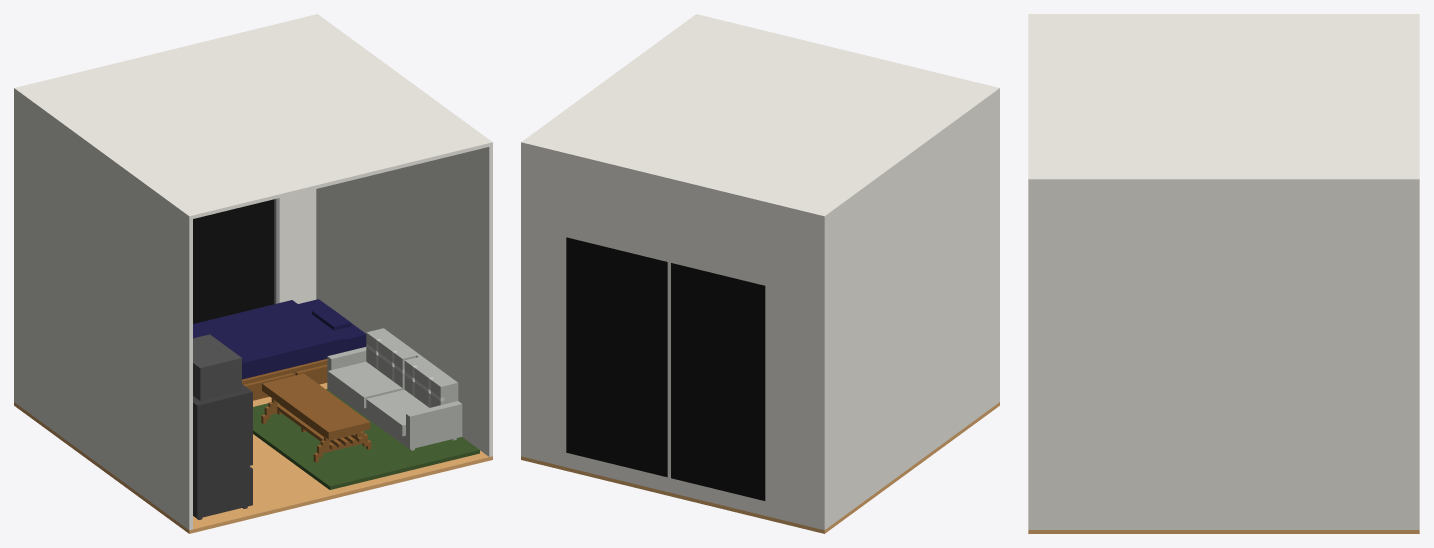
File: myroom.obj
3 views of the same model, side by side, from view 1: azimuth 30°, elevation 25°; view 2: azimuth 150°, elevation 25°; view 3: azimuth 270°, elevation 25° (orthographic). The views are drawn at different scales.
Visible parts, largest first — view 1: myroom; view 2: myroom; view 3: myroom.
Part boxes in pixels (x1,y1,x2,y2): myroom: (14, 14, 492, 533); myroom: (521, 14, 999, 533); myroom: (1028, 14, 1419, 533).
Size of the model in its own units: 87 by 87 by 87.
Materials: 1 (1 with a texture image).
